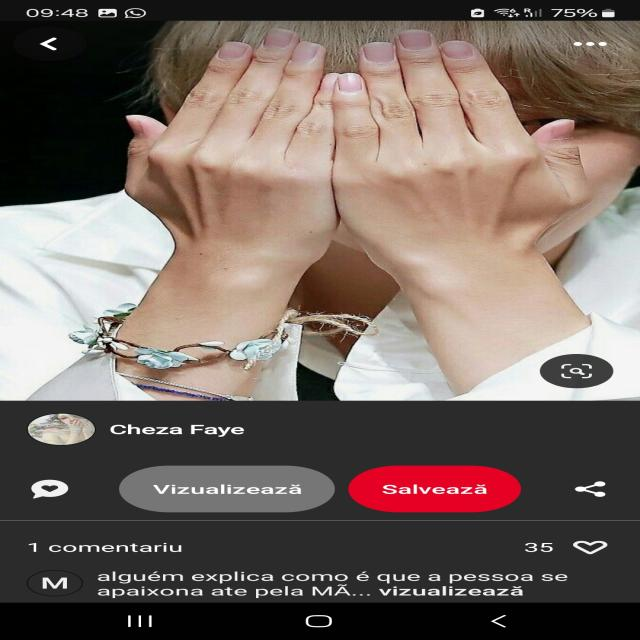hands: (341, 25, 629, 317), (92, 31, 341, 291)
